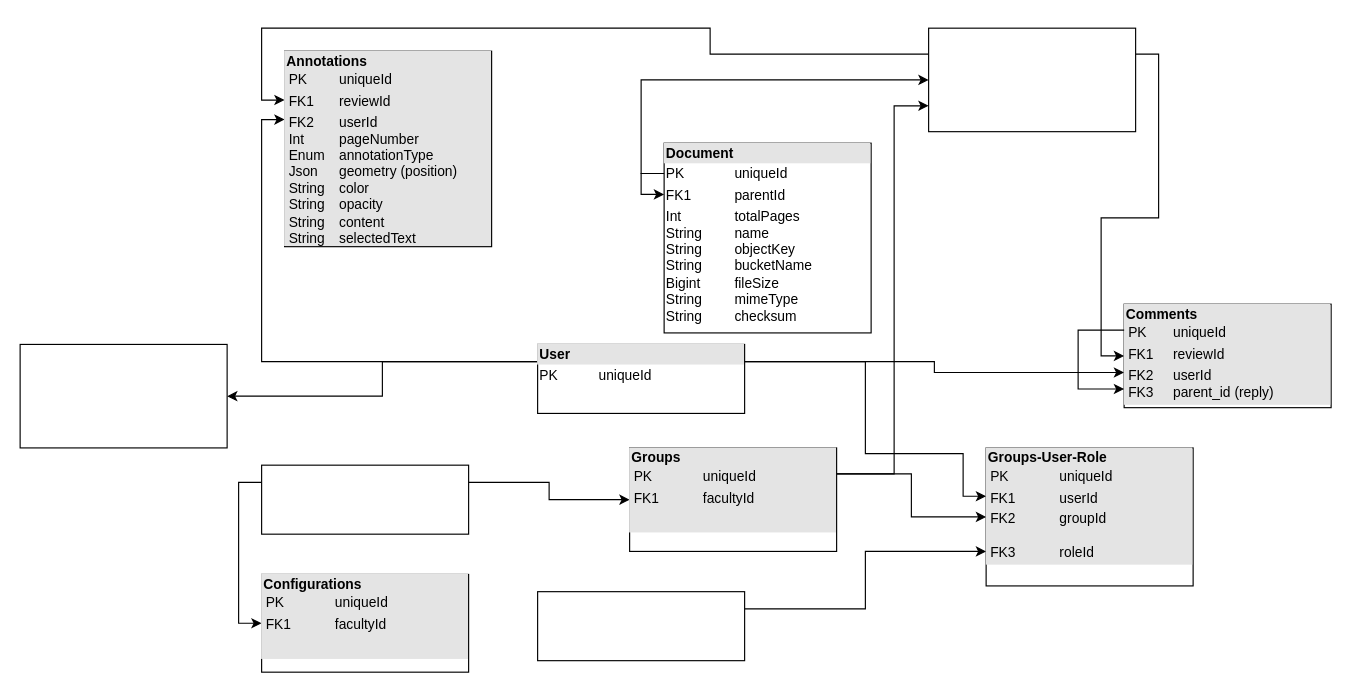
Image size: 1351x692. Some labels were removed from this diagram. Here are the shapes that lost their labels. From the top down, the box of each, then its label:
(927, 27, 1136, 132): Reviews PK uniqueId FK1 documentId FK2 groupId
(19, 343, 227, 448): Notifications PK uniqueId FK1 userId
(260, 464, 469, 534): Faculty PK uniqueId
(536, 591, 745, 661): Roles PK uniqueId
